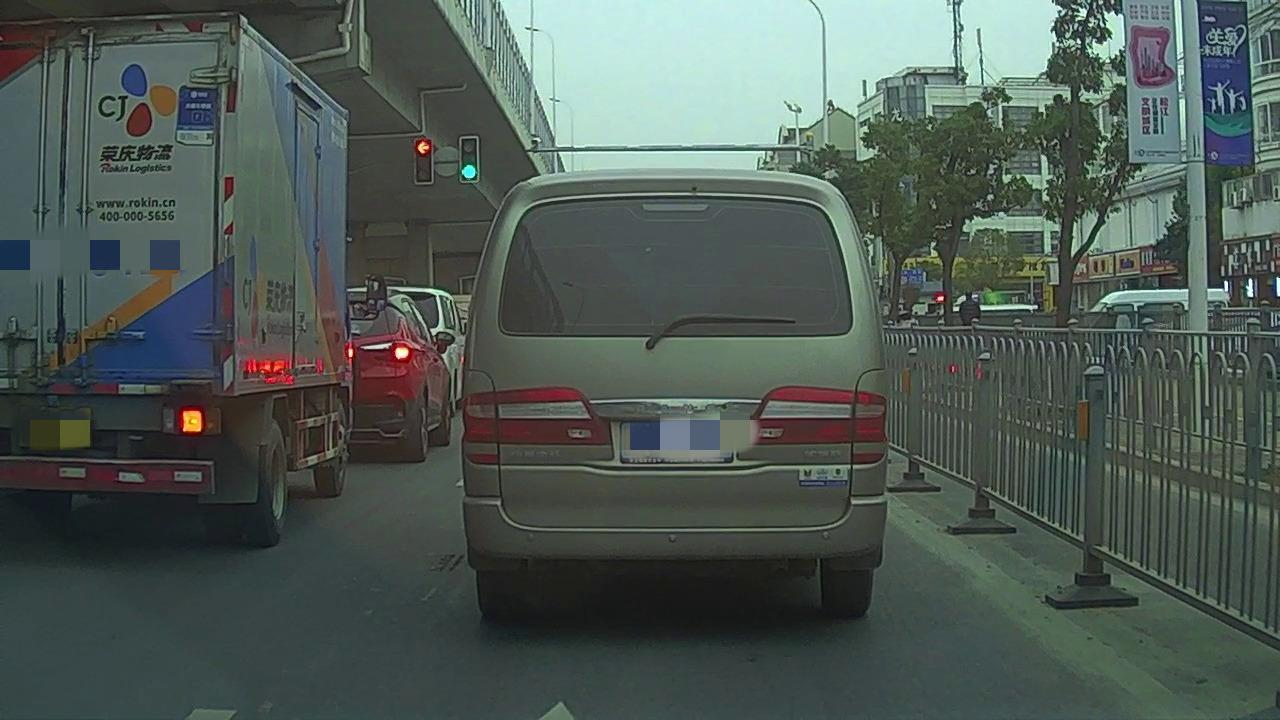traffic_light: (415, 140, 433, 184), (462, 136, 477, 182)
